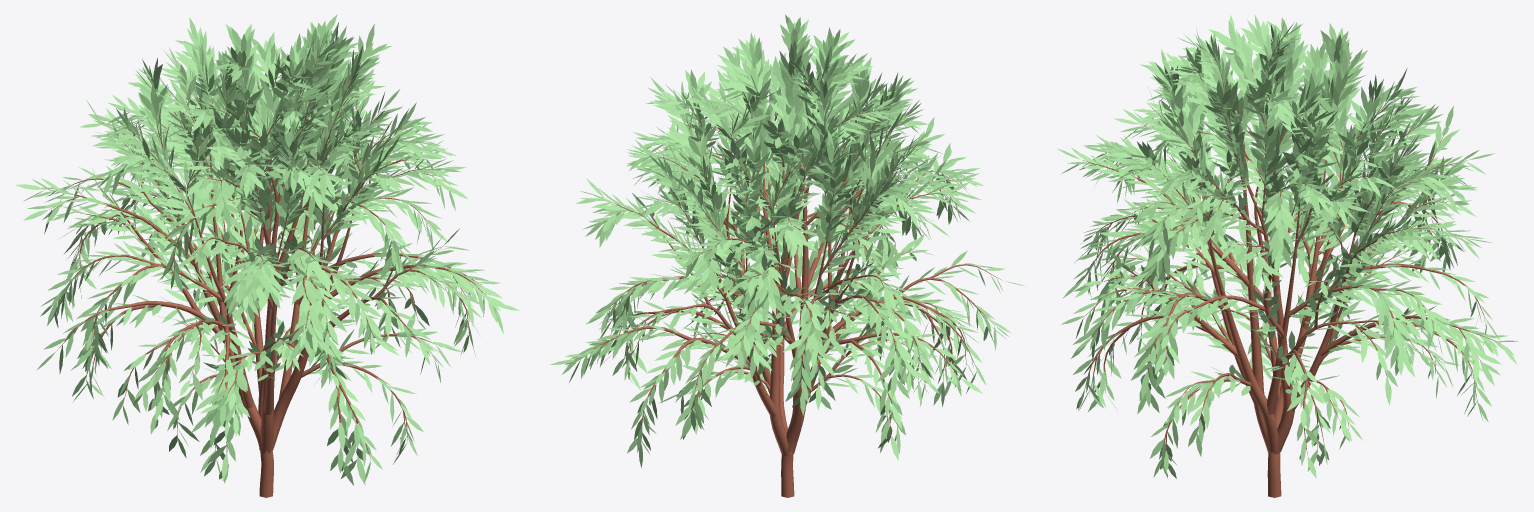
Rendered from Arbol Dos.fbx.
3 views of the same model, side by side, from view 1: azimuth 30°, elevation 25°; view 2: azimuth 150°, elevation 25°; view 3: azimuth 270°, elevation 25° (orthographic). The views are drawn at different scales.
Parts seen in each view (by area): view 1: leaves, tree; view 2: leaves, tree; view 3: leaves, tree.
Boxes of the visible parts, box(x1,y1,x2,y2) form: leaves: box(15, 14, 519, 485); tree: box(46, 54, 482, 497); leaves: box(550, 14, 1025, 468); tree: box(581, 49, 1002, 497); leaves: box(1057, 14, 1518, 478); tree: box(1082, 41, 1500, 497).
Bounding box in the file's own units: 593 × 679 × 605.
